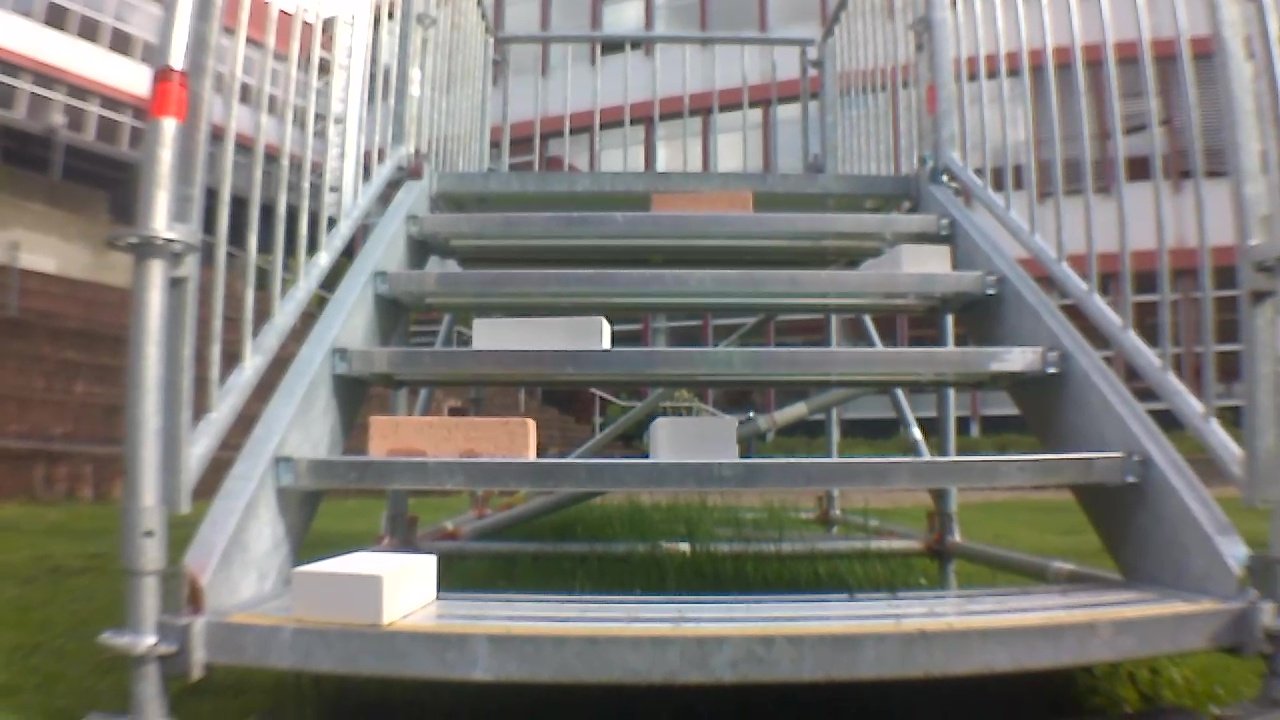brick: (285, 549, 442, 625), (368, 413, 544, 460), (474, 318, 611, 352), (646, 420, 736, 460), (860, 244, 953, 271), (647, 191, 754, 214)
edge: (198, 601, 1261, 668), (277, 451, 1146, 490), (336, 348, 1064, 374), (371, 268, 1006, 296), (403, 217, 958, 237), (428, 173, 919, 192)
stairs: (142, 0, 1280, 707)
steps: (186, 172, 1256, 683)
